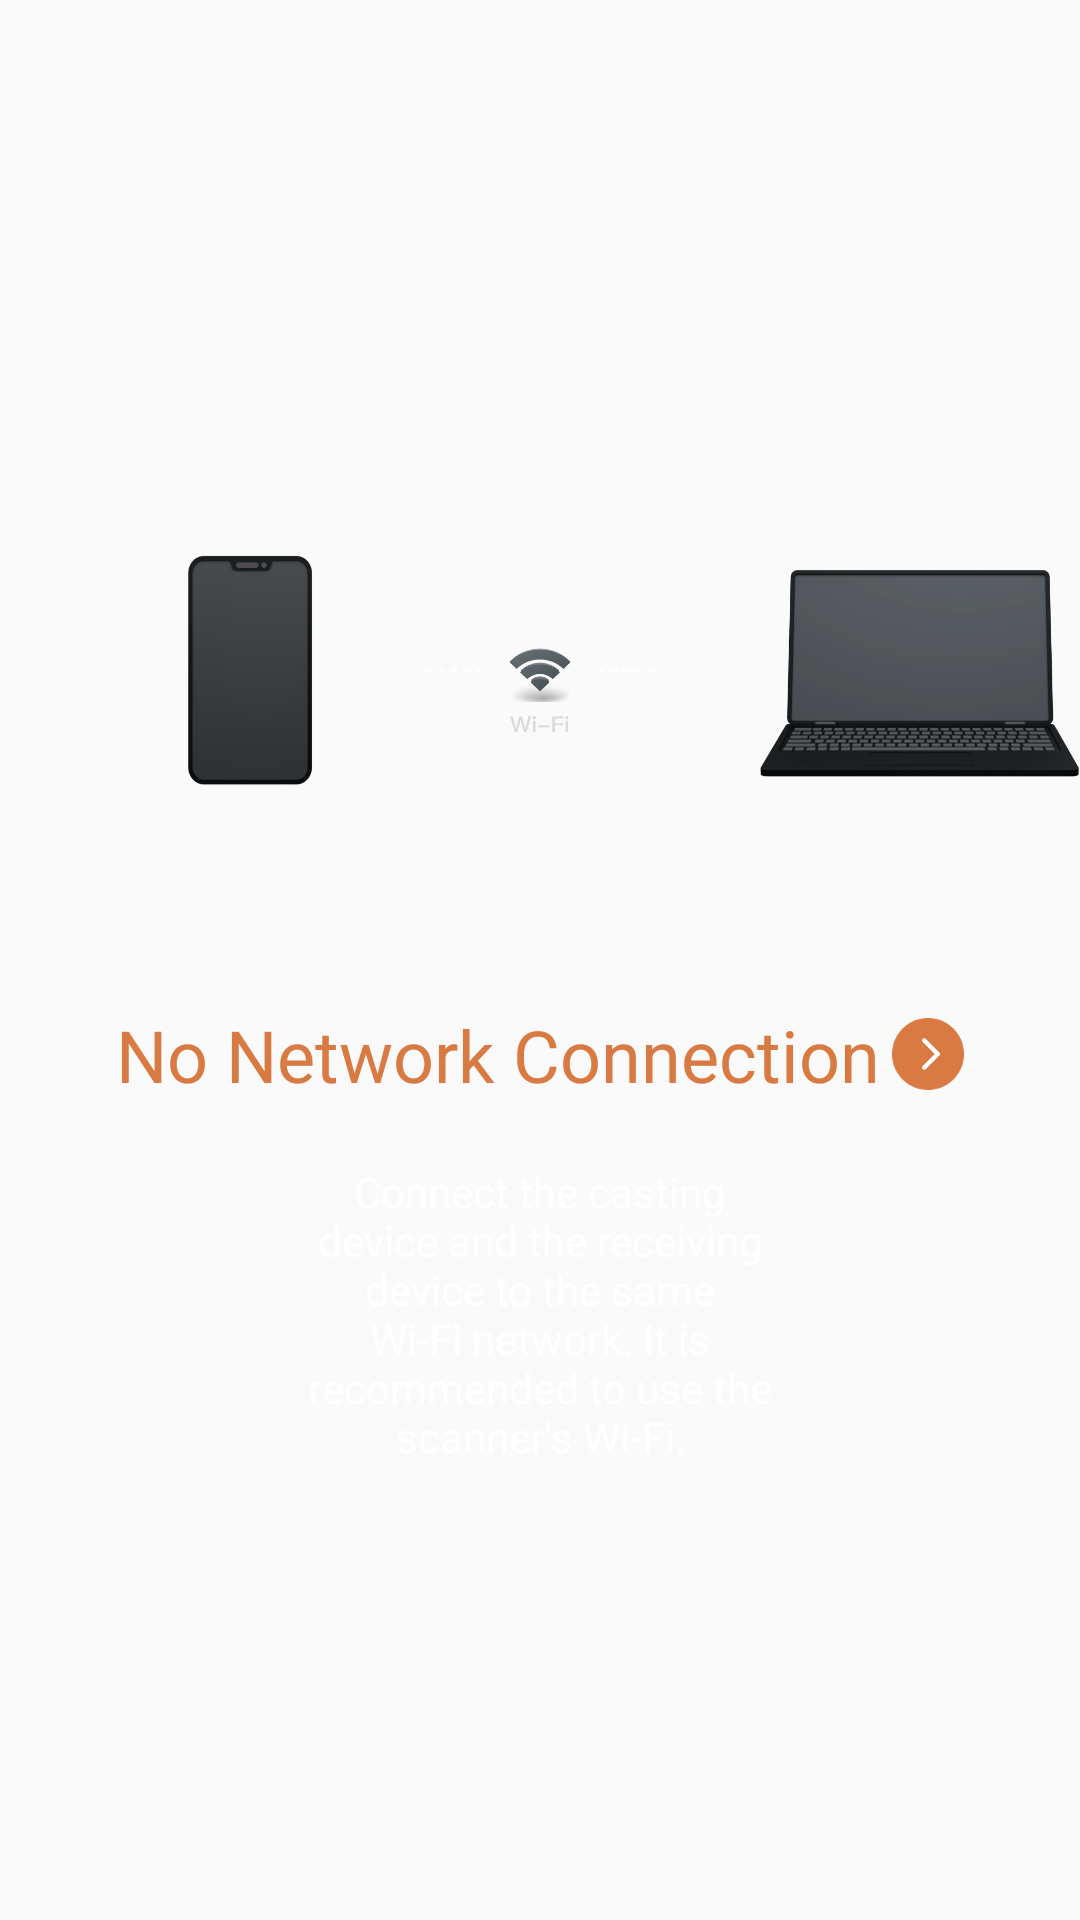

Icon bounding boxes for this 1080w x 1920h phone screenshot, format {"left": x1, "top": y1, "right": x2, "bottom": y2}:
connect more: {"left": 892, "top": 1018, "right": 964, "bottom": 1090}
